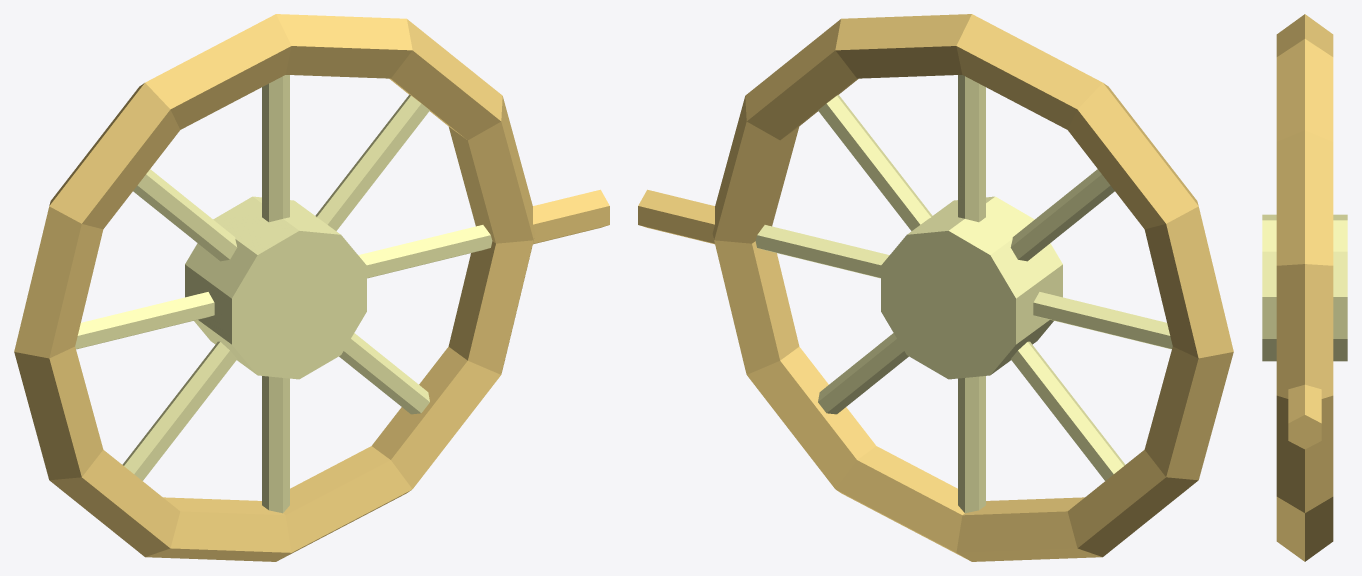
The model's file is sluice_wheel-kPHf8G5f.glb.
The picture shows the model from 3 angles, left to right: view 1: azimuth 30°, elevation 25°; view 2: azimuth 150°, elevation 25°; view 3: azimuth 270°, elevation 25°; orthographic projection. The views are drawn at different scales.
Visible parts, largest first — view 1: sluice_wheel_wheel, sluice_wheel_hub, sluice_wheel_spoke_5, sluice_wheel_spoke_1, sluice_wheel_spoke_2, sluice_wheel_spoke_6, sluice_wheel_spoke_4, sluice_wheel_spoke_3, sluice_wheel_spoke_0, sluice_wheel_handle, sluice_wheel_spoke_7; view 2: sluice_wheel_wheel, sluice_wheel_hub, sluice_wheel_spoke_5, sluice_wheel_spoke_1, sluice_wheel_spoke_2, sluice_wheel_spoke_6, sluice_wheel_spoke_4, sluice_wheel_spoke_3, sluice_wheel_spoke_0, sluice_wheel_handle, sluice_wheel_spoke_7; view 3: sluice_wheel_wheel, sluice_wheel_hub, sluice_wheel_handle.
Boxes of the visible parts, x1,y1,x2,y2 form: sluice_wheel_wheel: [14, 14, 535, 561]; sluice_wheel_hub: [185, 196, 366, 379]; sluice_wheel_spoke_5: [122, 341, 236, 480]; sluice_wheel_spoke_1: [315, 94, 429, 230]; sluice_wheel_spoke_2: [262, 75, 289, 222]; sluice_wheel_spoke_6: [262, 376, 289, 513]; sluice_wheel_spoke_4: [75, 292, 214, 349]; sluice_wheel_spoke_3: [133, 169, 237, 261]; sluice_wheel_spoke_0: [358, 225, 492, 278]; sluice_wheel_handle: [533, 189, 609, 244]; sluice_wheel_spoke_7: [339, 333, 429, 414]; sluice_wheel_wheel: [712, 14, 1233, 561]; sluice_wheel_hub: [881, 196, 1062, 379]; sluice_wheel_spoke_5: [1011, 341, 1125, 480]; sluice_wheel_spoke_1: [818, 94, 932, 230]; sluice_wheel_spoke_2: [958, 75, 985, 222]; sluice_wheel_spoke_6: [958, 376, 985, 513]; sluice_wheel_spoke_4: [1033, 292, 1172, 349]; sluice_wheel_spoke_3: [1010, 169, 1114, 261]; sluice_wheel_spoke_0: [755, 225, 889, 278]; sluice_wheel_handle: [638, 189, 714, 244]; sluice_wheel_spoke_7: [818, 333, 908, 414]; sluice_wheel_wheel: [1276, 14, 1333, 561]; sluice_wheel_hub: [1262, 214, 1347, 361]; sluice_wheel_handle: [1288, 384, 1321, 449].
Size of the model in its own units: 0.578 by 0.516 by 0.08.
